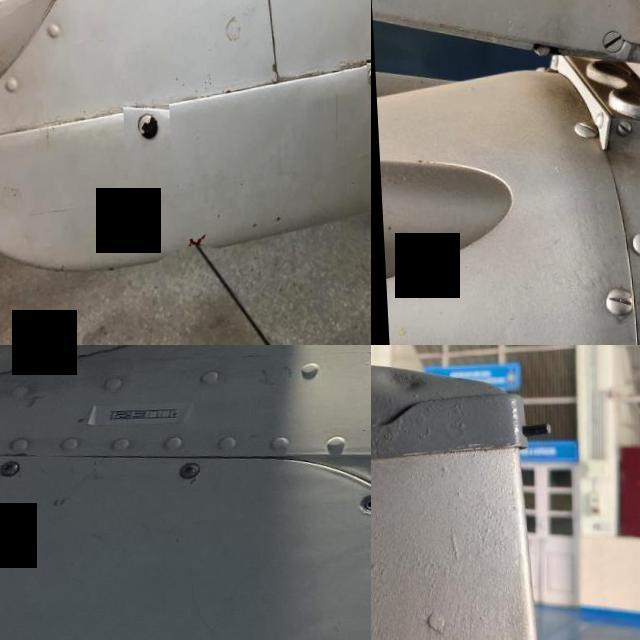Crack: (240, 0, 287, 86), (119, 102, 167, 155), (362, 64, 371, 105)
Dent: (372, 364, 426, 406)
Missing_Fastener: (349, 499, 371, 521)
